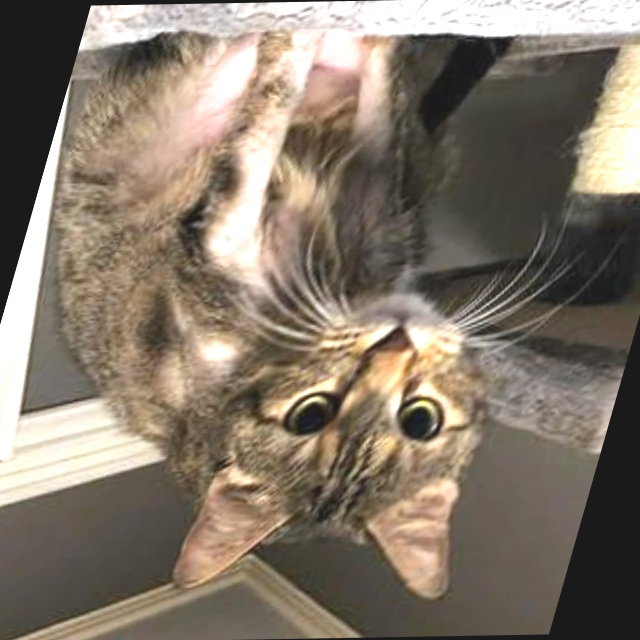hairloss: (209, 92, 300, 264), (165, 39, 251, 177), (333, 37, 421, 147)
